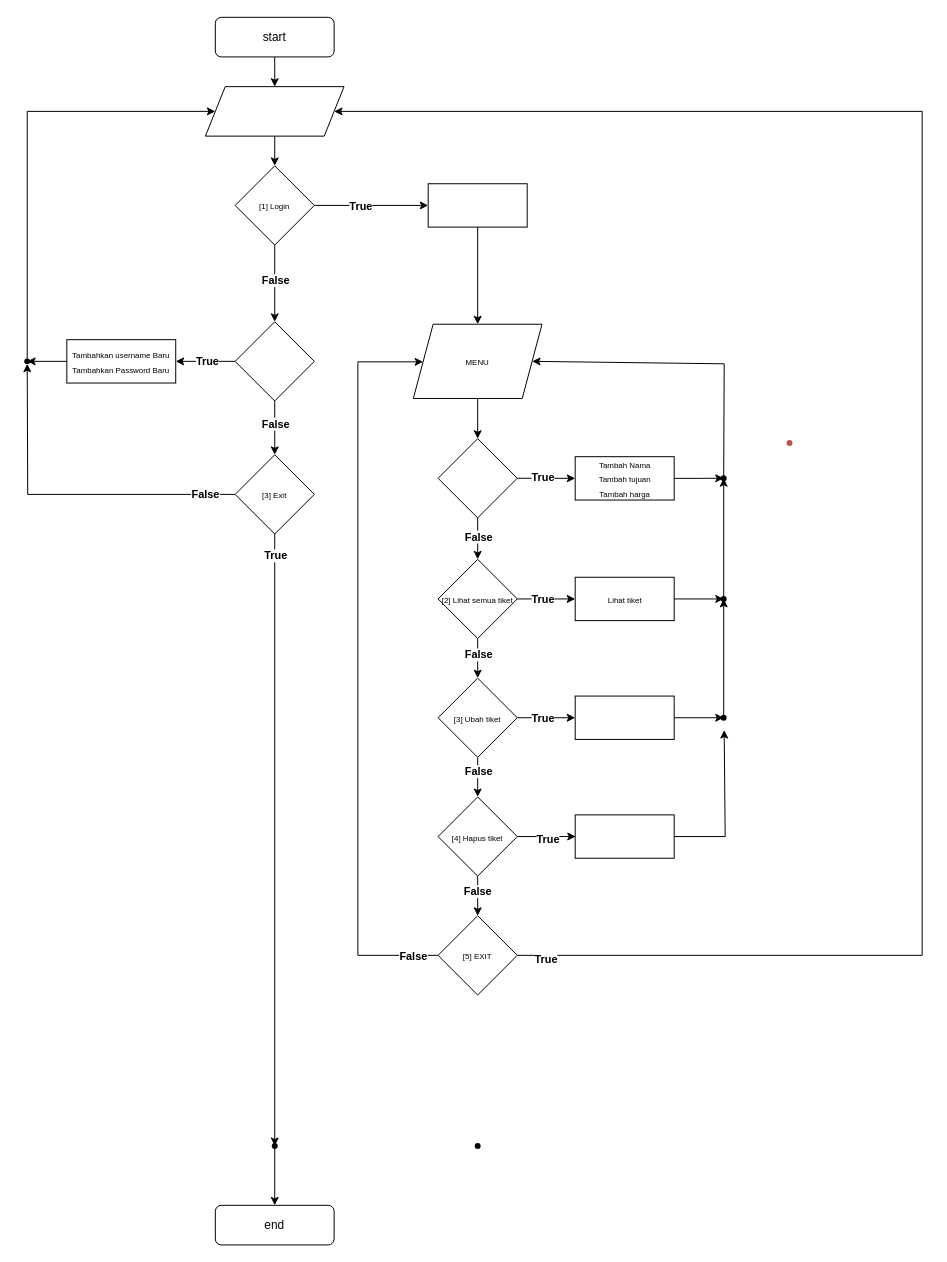
This 947x1262 diagram has some shape labels left out. The shapes that lost their labels are listed below. From the top down, each one's box as (x1, y1, x2, y2) in pixels, then its label:
(204, 86, 344, 136): [1] Login [2] Daftar Akun [3] Exit
(427, 183, 527, 227): masukkan username masukkan password
(234, 321, 314, 401): [2] Daftar Akun
(437, 438, 517, 518): [1] Tambah tiket
(574, 695, 674, 739): Ubah nama Ubah tiket ubah harga
(574, 814, 674, 858): Hapus tiket
